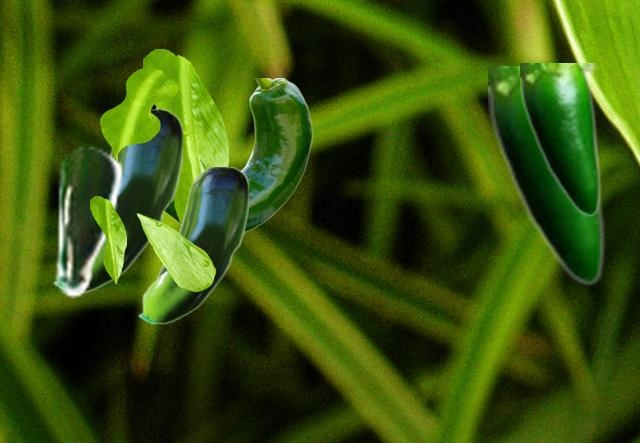green_chili: (488, 66, 604, 285), (155, 78, 312, 232), (53, 109, 181, 293), (137, 167, 247, 324), (520, 63, 600, 216), (51, 144, 123, 297)
